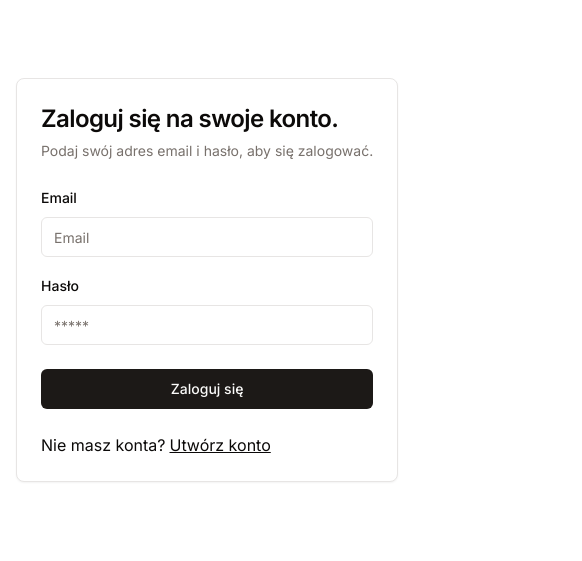
Scenario: AuthPage › should render register card
What coordinates should you click on to do the following:
click the button "Utwórz konto"
I would click on:
 (220, 445)
Its box is [170, 433, 271, 457].
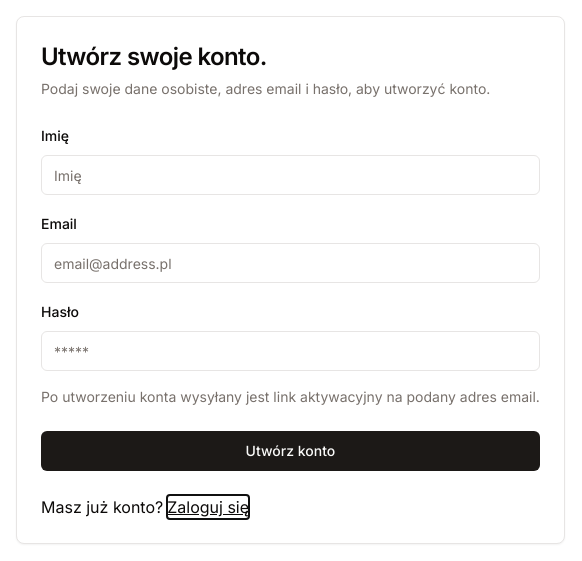
Result: the heading "Utwórz swoje konto." is shown at [41, 42, 267, 71]
Result: the text "Podaj swoje dane osobiste, adres email i hasło, aby utworzyć konto." is shown at [41, 79, 540, 99]
Result: the button "Zaloguj się" is shown at [167, 495, 249, 519]
